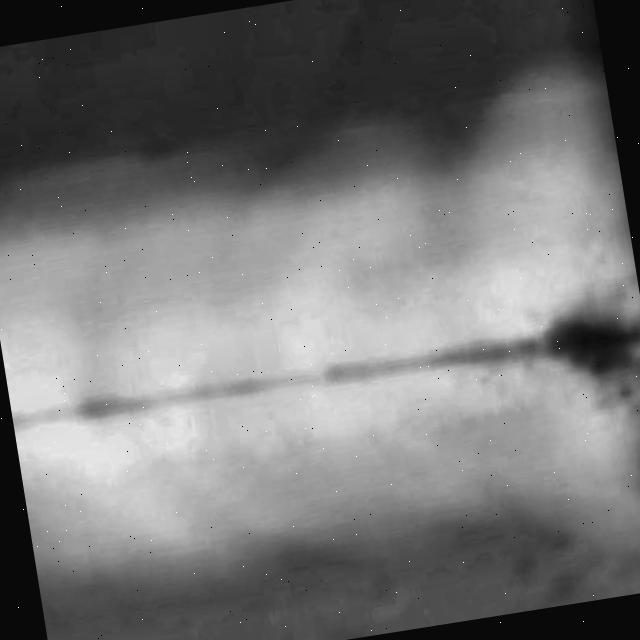LoP-LoF: (7, 304, 540, 460)
Slag: (532, 245, 640, 439)
